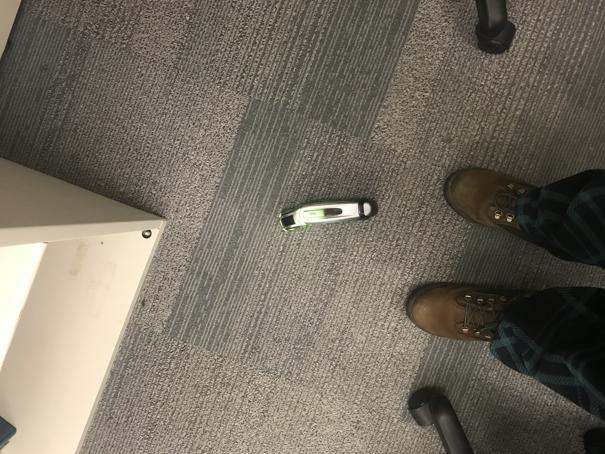Freewheel: (278, 198, 377, 231)
